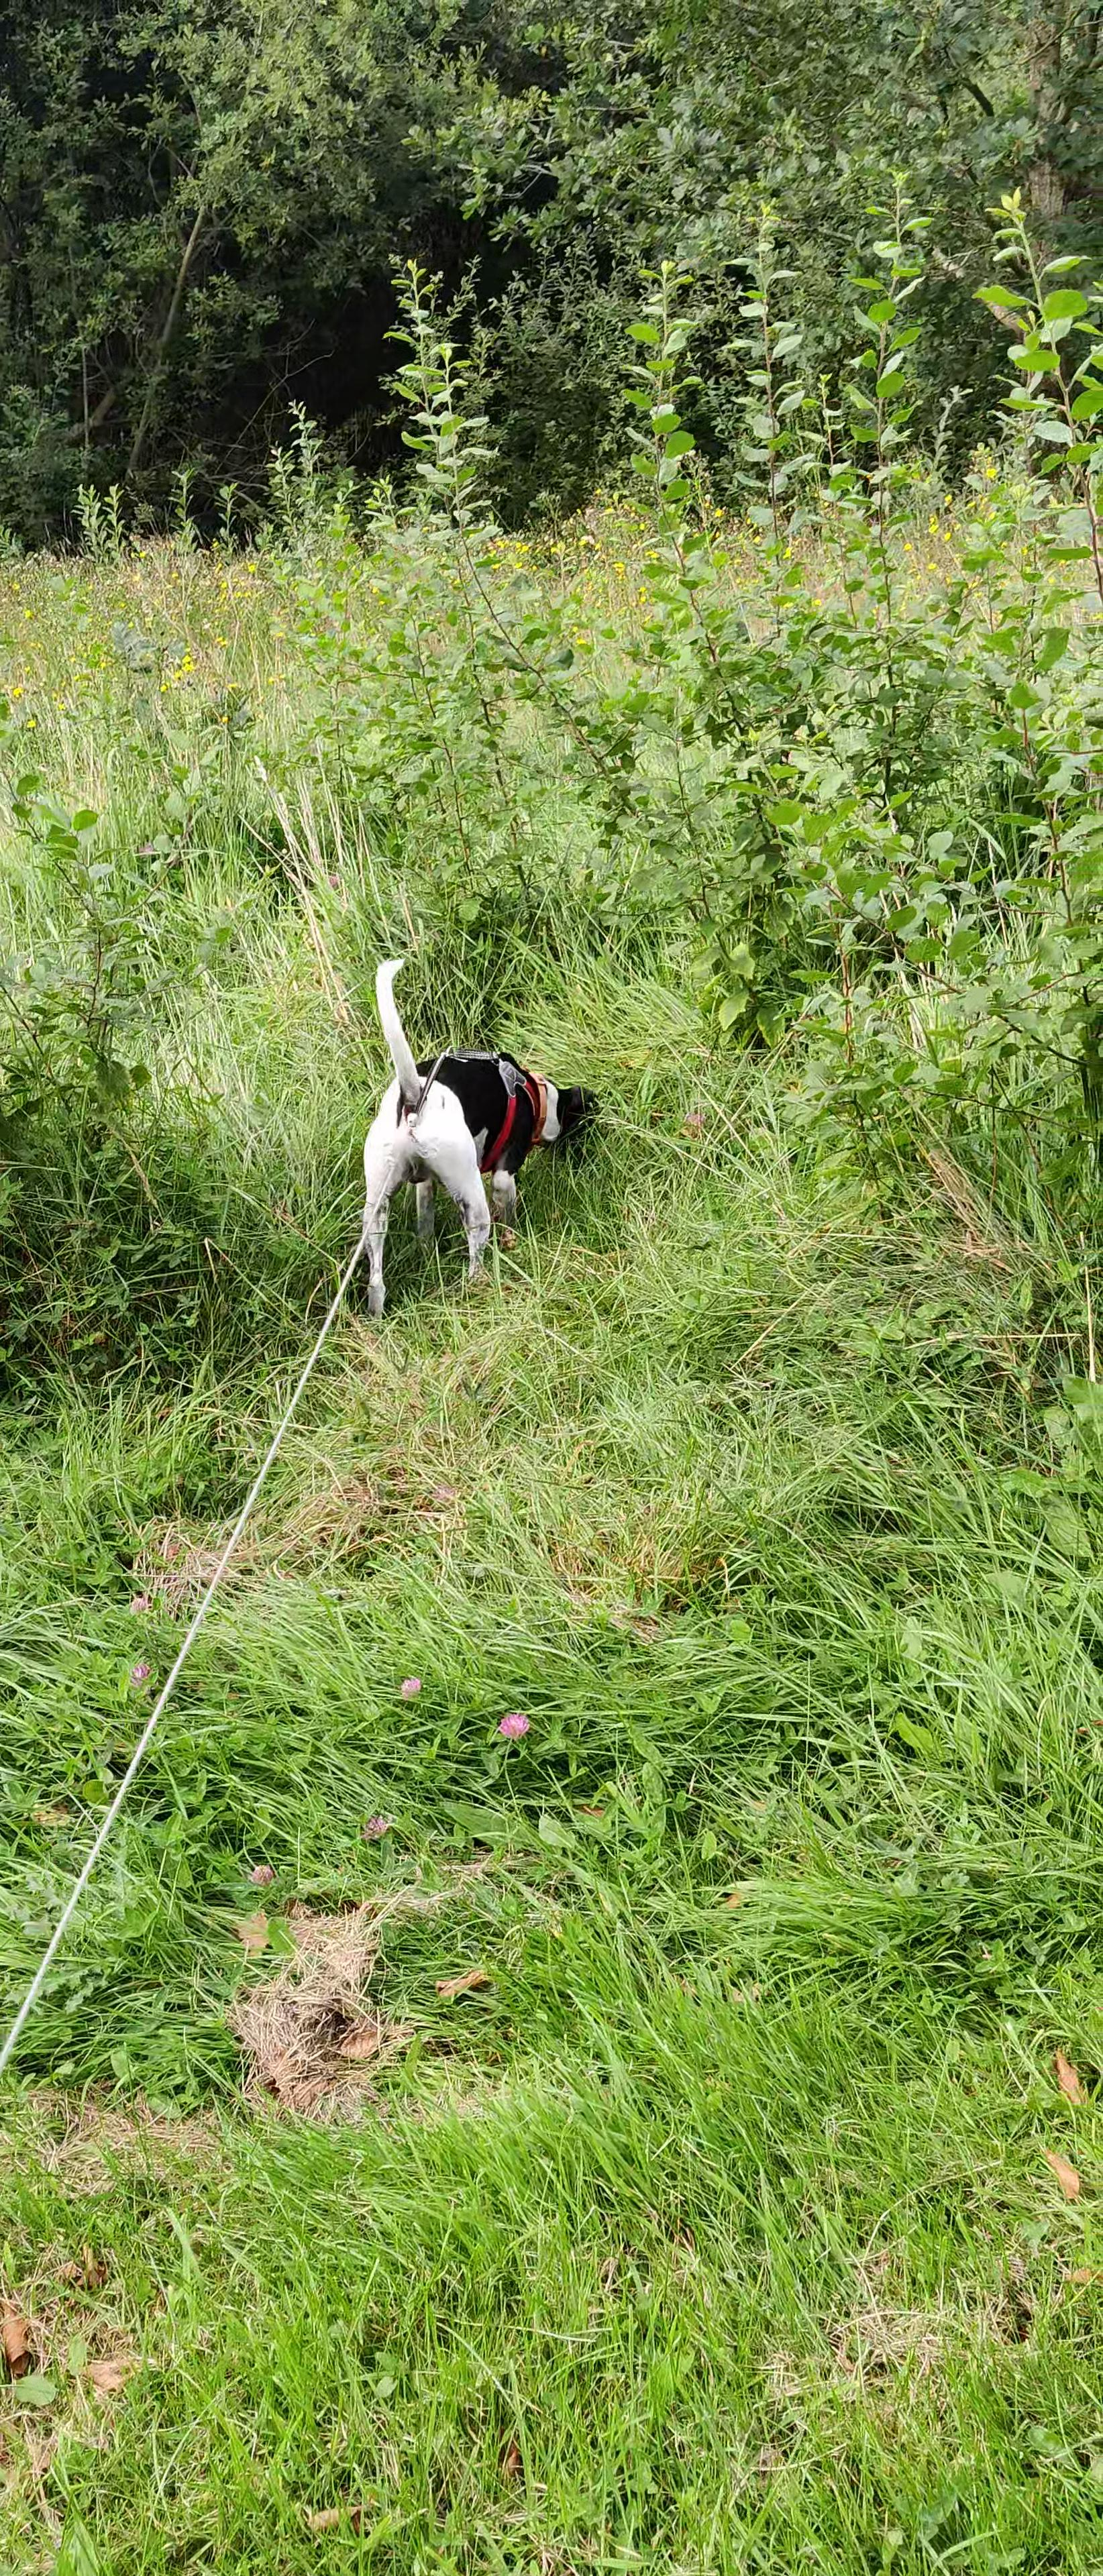Dog: (311, 943, 636, 1339)
